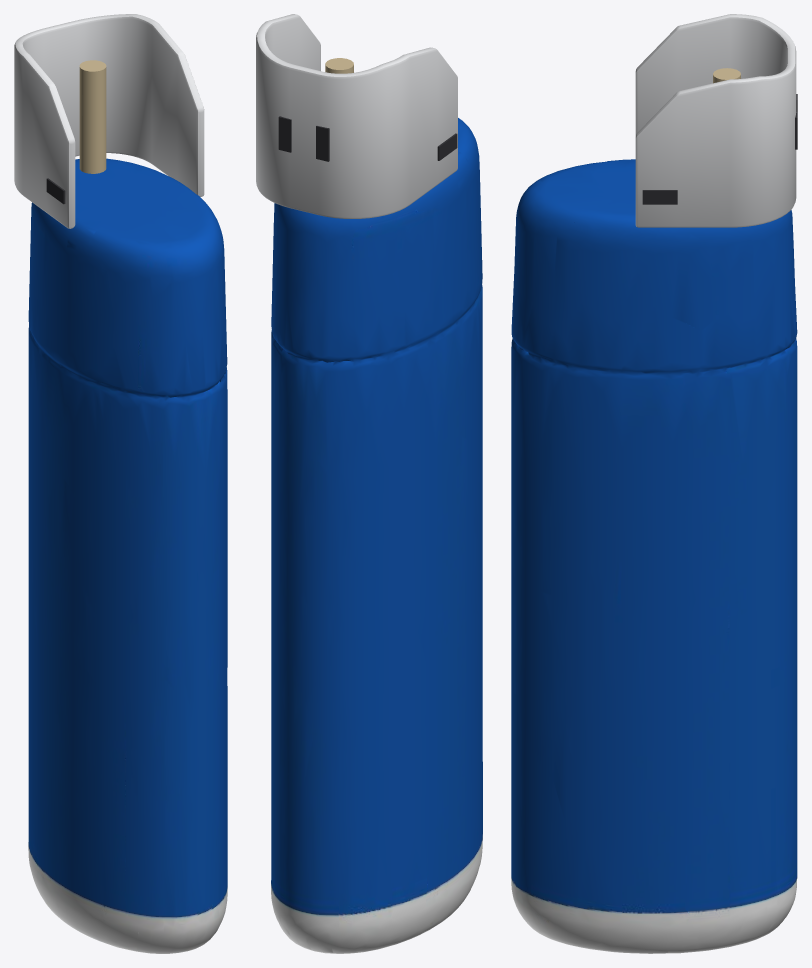
The model's file is lighter.glb.
3 views of the same model, side by side, from view 1: azimuth 30°, elevation 25°; view 2: azimuth 150°, elevation 25°; view 3: azimuth 270°, elevation 25° (orthographic). The views are drawn at different scales.
Visible parts, largest first — view 1: body, hood, nozzle; view 2: body, hood, vent; view 3: body, hood, vent.
Part boxes in pixels (x1,y1,x2,y2): body: [28, 158, 227, 953]; hood: [14, 14, 204, 228]; nozzle: [79, 60, 106, 173]; body: [271, 118, 482, 953]; hood: [256, 14, 457, 218]; vent: [278, 116, 457, 161]; body: [511, 159, 797, 953]; hood: [635, 14, 796, 227]; vent: [642, 94, 797, 204].
Bounding box in the file's own units: 0.148 × 0.835 × 0.2443.
7 materials, 2 textured.
